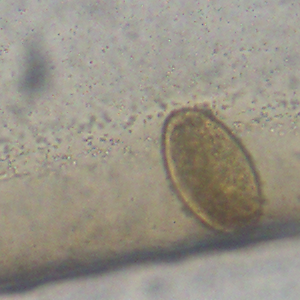Fasciola_hepatica_egg: (161, 106, 265, 237)
